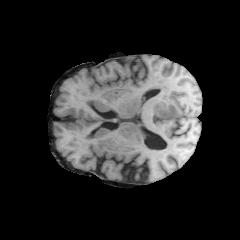glioma: (88, 78, 177, 125)
